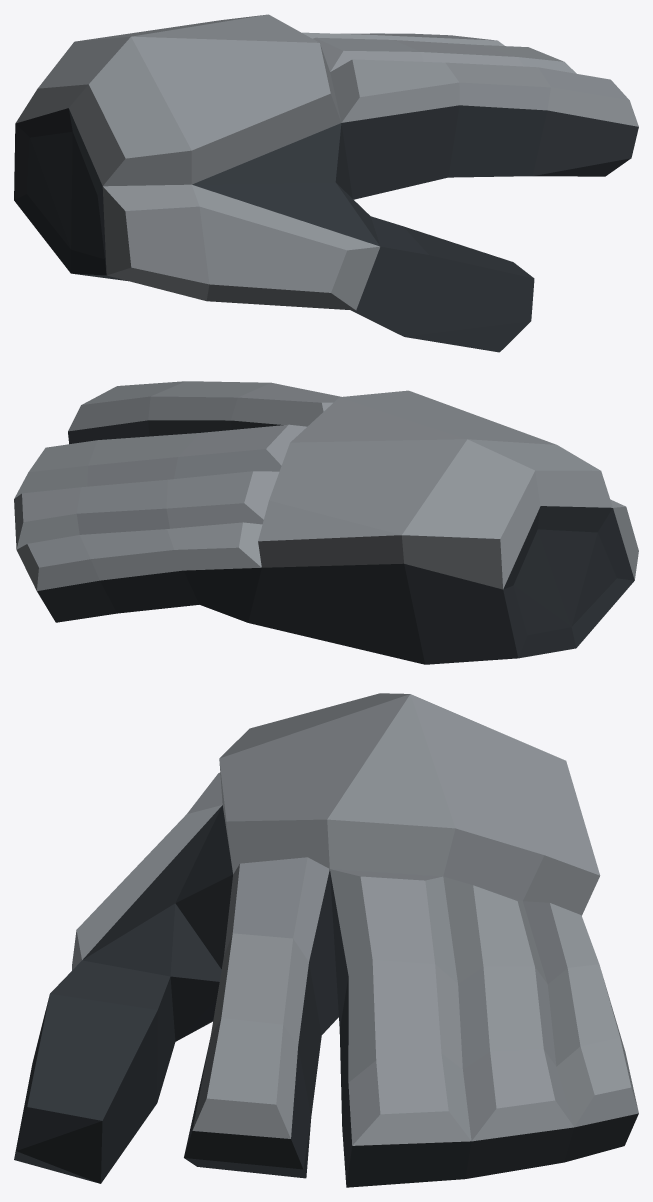
The model's file is Chr_HandLeft_Female_12_Static.fbx.
3 renders of one model, top to bottom at view 1: azimuth 30°, elevation 25°; view 2: azimuth 150°, elevation 25°; view 3: azimuth 270°, elevation 25°, orthographic. The views are drawn at different scales.
Parts seen in each view (by area): view 1: Chr_HandLeft_Female_12_Static; view 2: Chr_HandLeft_Female_12_Static; view 3: Chr_HandLeft_Female_12_Static.
Boxes of the visible parts, bbox=[...] form: Chr_HandLeft_Female_12_Static: bbox=[14, 14, 638, 352]; Chr_HandLeft_Female_12_Static: bbox=[14, 381, 638, 664]; Chr_HandLeft_Female_12_Static: bbox=[14, 693, 638, 1187].
Size of the model in its own units: 0.237 by 0.1165 by 0.188.
